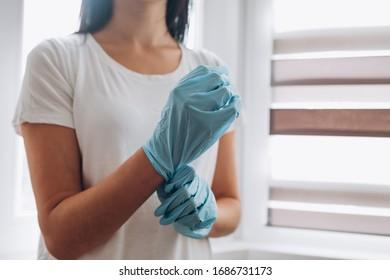gloves: (141, 63, 242, 178), (154, 164, 219, 239)
